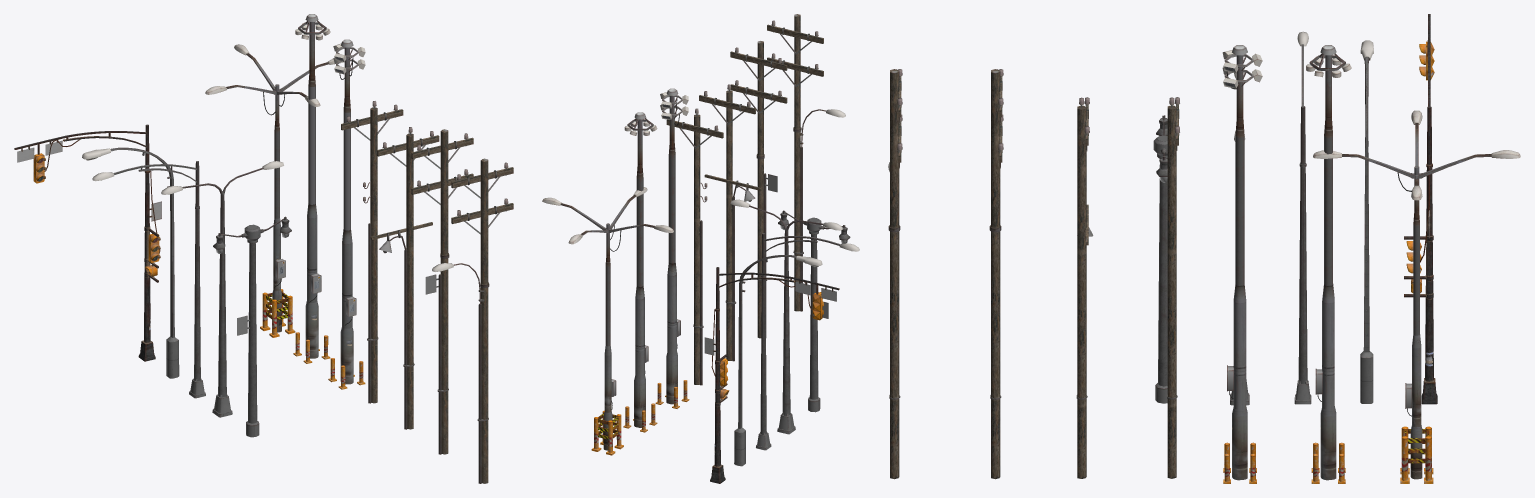
File: light_poles_-_low_poly_prop_set.glb
3 renders of one model, left to right at view 1: azimuth 30°, elevation 25°; view 2: azimuth 150°, elevation 25°; view 3: azimuth 270°, elevation 25°, orthographic. The views are drawn at different scales.
Parts seen in each view (by area): view 1: SP_TNR_Electricpole_4_SP_TNR_Electricpole_1-8_0, SP_TNR_Electricpole_1_SP_TNR_Electricpole_1-8_0, SP_AFG_Lightpole_Big_3, SP_AFG_Lightpole_Big_2, SP_TNR_TrafficLight_old_1, SP_TNR_Electricpole_3_SP_TNR_Electricpole_1-8_0, SP_AFG_Lightpole_Big_1, SP_TNR_Electricpole_2_SP_TNR_Electricpole_1-8_0, SP_TNR_Electricpole_5, SP_TNR_Electricpole_7, SP_TNR_Electricpole_6, SP_TNR_Electricpole_8_SP_TNR_Electricpole_1-8_0; view 2: SP_AFG_Lightpole_Big_3, SP_AFG_Lightpole_Big_2, SP_TNR_Electricpole_4_SP_TNR_Electricpole_1-8_0, SP_AFG_Lightpole_Big_1, SP_TNR_Electricpole_1_SP_TNR_Electricpole_1-8_0, SP_TNR_TrafficLight_old_1, SP_TNR_Electricpole_3_SP_TNR_Electricpole_1-8_0, SP_TNR_Electricpole_2_SP_TNR_Electricpole_1-8_0, SP_TNR_Electricpole_7, SP_TNR_Electricpole_5, SP_TNR_Electricpole_6, SP_TNR_Electricpole_8_SP_TNR_Electricpole_1-8_0; view 3: SP_AFG_Lightpole_Big_3, SP_AFG_Lightpole_Big_2, SP_AFG_Lightpole_Big_1, SP_TNR_Electricpole_4_SP_TNR_Electricpole_1-8_0, SP_TNR_Electricpole_1_SP_TNR_Electricpole_1-8_0, SP_TNR_Electricpole_3_SP_TNR_Electricpole_1-8_0, SP_TNR_Electricpole_2_SP_TNR_Electricpole_1-8_0, SP_TNR_TrafficLight_old_1, SP_TNR_Electricpole_5, SP_TNR_Electricpole_6, SP_TNR_Electricpole_8_SP_TNR_Electricpole_1-8_0.
Boxes of the visible parts, x1=… form: SP_TNR_Electricpole_4_SP_TNR_Electricpole_1-8_0: x1=432, y1=158, x2=513, y2=483; SP_TNR_Electricpole_1_SP_TNR_Electricpole_1-8_0: x1=411, y1=129, x2=473, y2=454; SP_AFG_Lightpole_Big_3: x1=328, y1=39, x2=365, y2=389; SP_AFG_Lightpole_Big_2: x1=293, y1=14, x2=330, y2=363; SP_TNR_TrafficLight_old_1: x1=14, y1=124, x2=161, y2=361; SP_TNR_Electricpole_3_SP_TNR_Electricpole_1-8_0: x1=370, y1=127, x2=439, y2=429; SP_AFG_Lightpole_Big_1: x1=205, y1=44, x2=344, y2=337; SP_TNR_Electricpole_2_SP_TNR_Electricpole_1-8_0: x1=341, y1=101, x2=403, y2=403; SP_TNR_Electricpole_5: x1=213, y1=216, x2=291, y2=437; SP_TNR_Electricpole_7: x1=161, y1=161, x2=283, y2=417; SP_TNR_Electricpole_6: x1=92, y1=161, x2=205, y2=398; SP_TNR_Electricpole_8_SP_TNR_Electricpole_1-8_0: x1=82, y1=147, x2=179, y2=378; SP_AFG_Lightpole_Big_3: x1=655, y1=88, x2=689, y2=408; SP_AFG_Lightpole_Big_2: x1=623, y1=112, x2=657, y2=432; SP_TNR_Electricpole_4_SP_TNR_Electricpole_1-8_0: x1=767, y1=14, x2=845, y2=311; SP_AFG_Lightpole_Big_1: x1=542, y1=187, x2=673, y2=455; SP_TNR_Electricpole_1_SP_TNR_Electricpole_1-8_0: x1=730, y1=41, x2=787, y2=338; SP_TNR_TrafficLight_old_1: x1=704, y1=267, x2=839, y2=483; SP_TNR_Electricpole_3_SP_TNR_Electricpole_1-8_0: x1=699, y1=84, x2=761, y2=361; SP_TNR_Electricpole_2_SP_TNR_Electricpole_1-8_0: x1=666, y1=108, x2=723, y2=385; SP_TNR_Electricpole_7: x1=730, y1=199, x2=842, y2=434; SP_TNR_Electricpole_5: x1=778, y1=210, x2=850, y2=412; SP_TNR_Electricpole_6: x1=756, y1=233, x2=859, y2=450; SP_TNR_Electricpole_8_SP_TNR_Electricpole_1-8_0: x1=734, y1=255, x2=822, y2=466; SP_AFG_Lightpole_Big_3: x1=1222, y1=45, x2=1262, y2=483; SP_AFG_Lightpole_Big_2: x1=1306, y1=45, x2=1351, y2=483; SP_AFG_Lightpole_Big_1: x1=1313, y1=110, x2=1520, y2=483; SP_TNR_Electricpole_4_SP_TNR_Electricpole_1-8_0: x1=888, y1=69, x2=902, y2=479; SP_TNR_Electricpole_1_SP_TNR_Electricpole_1-8_0: x1=989, y1=69, x2=1003, y2=479; SP_TNR_Electricpole_3_SP_TNR_Electricpole_1-8_0: x1=1076, y1=97, x2=1093, y2=478; SP_TNR_Electricpole_2_SP_TNR_Electricpole_1-8_0: x1=1167, y1=97, x2=1179, y2=478; SP_TNR_TrafficLight_old_1: x1=1404, y1=14, x2=1437, y2=404; SP_TNR_Electricpole_5: x1=1153, y1=115, x2=1167, y2=403; SP_TNR_Electricpole_6: x1=1294, y1=31, x2=1311, y2=404; SP_TNR_Electricpole_8_SP_TNR_Electricpole_1-8_0: x1=1360, y1=40, x2=1373, y2=403.
Size of the model in its own units: 9.62 by 9.54 by 12.71.
Materials: 12 (12 with a texture image).
